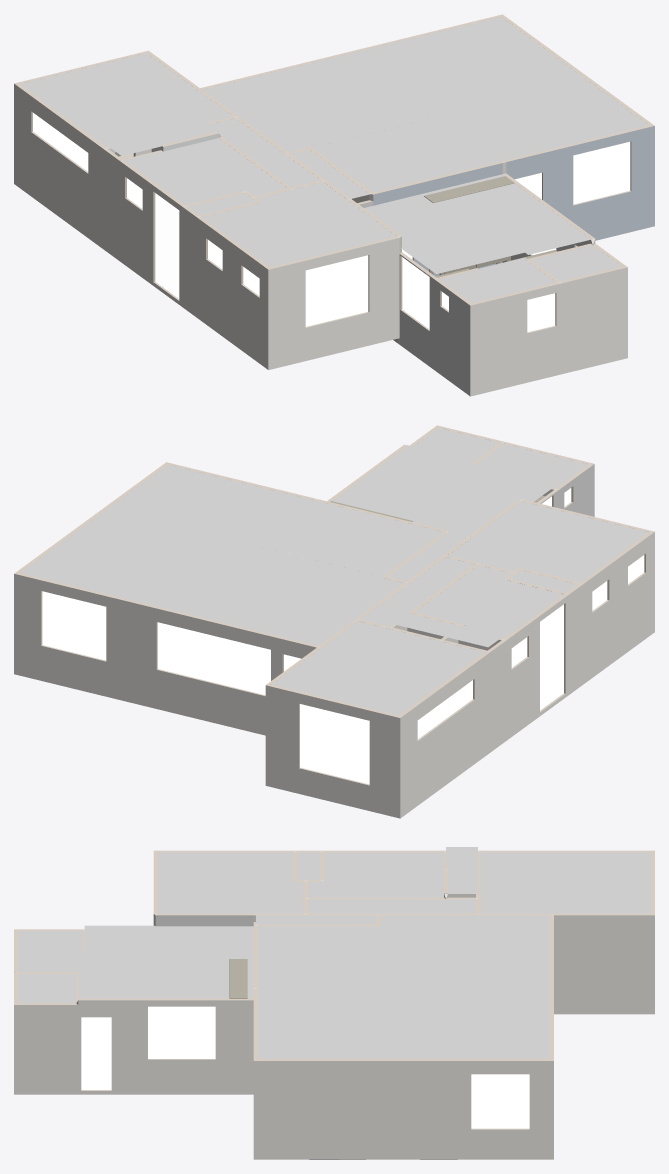
The model's file is sample_house.glb.
3 renders of one model, top to bottom at view 1: azimuth 30°, elevation 25°; view 2: azimuth 150°, elevation 25°; view 3: azimuth 270°, elevation 25°, orthographic.
Visible parts, largest first — view 1: Ceiling_Living_Room_1, Ceiling_Other_1, Wall_44, Ceiling_Kitchen, Wall_33, Wall_32, Ceiling_Dining_Room, Wall_41, Wall_7, Ceiling_Living_Room_2_1, Ceiling_Bedroom_1, Wall_43 (+27 smaller); view 2: Ceiling_Living_Room_1, Wall_10, Ceiling_Other_1, Wall_6, Ceiling_Kitchen, Wall_33, Ceiling_Dining_Room, Wall_7, Ceiling_Living_Room_2_1, Ceiling_Bedroom_1, Window_4, Ceiling_Bedroom_0 (+19 smaller); view 3: Wall_4, Ceiling_Living_Room_1, Ceiling_Other_1, Wall_12, Wall_42, Ceiling_Kitchen, Ceiling_Dining_Room, Ceiling_Living_Room_2_1, Ceiling_Bedroom_1, Wall_22, Ceiling_Bathroom_1, Ceiling_Bedroom_0 (+16 smaller).
Boxes of the visible parts, bbox=[...] form: Ceiling_Living_Room_1: bbox=[199, 17, 587, 153]; Ceiling_Other_1: bbox=[364, 174, 592, 273]; Wall_44: bbox=[268, 236, 399, 369]; Ceiling_Kitchen: bbox=[441, 80, 648, 161]; Wall_33: bbox=[14, 83, 105, 249]; Wall_32: bbox=[503, 125, 654, 240]; Ceiling_Dining_Room: bbox=[312, 116, 501, 193]; Wall_41: bbox=[470, 282, 560, 396]; Wall_7: bbox=[196, 217, 269, 369]; Ceiling_Living_Room_2_1: bbox=[202, 189, 367, 267]; Ceiling_Bedroom_1: bbox=[20, 53, 198, 120]; Wall_43: bbox=[560, 266, 627, 374]; Ceiling_Living_Room_1: bbox=[20, 509, 406, 647]; Wall_10: bbox=[14, 573, 318, 735]; Ceiling_Other_1: bbox=[332, 445, 556, 536]; Wall_6: bbox=[265, 684, 400, 818]; Ceiling_Kitchen: bbox=[107, 464, 314, 545]; Wall_33: bbox=[399, 652, 489, 818]; Ceiling_Dining_Room: bbox=[254, 500, 443, 576]; Wall_7: bbox=[581, 531, 654, 684]; Ceiling_Living_Room_2_1: bbox=[477, 508, 648, 583]; Ceiling_Bedroom_1: bbox=[271, 648, 448, 715]; Window_4: bbox=[157, 622, 270, 695]; Ceiling_Bedroom_0: bbox=[320, 620, 487, 678]; Wall_4: bbox=[253, 1059, 553, 1159]; Ceiling_Living_Room_1: bbox=[378, 914, 551, 1058]; Ceiling_Other_1: bbox=[78, 925, 253, 999]; Wall_12: bbox=[78, 998, 253, 1094]; Wall_42: bbox=[552, 913, 654, 1014]; Ceiling_Kitchen: bbox=[258, 988, 378, 1058]; Ceiling_Dining_Room: bbox=[257, 925, 378, 988]; Ceiling_Living_Room_2_1: bbox=[157, 852, 305, 899]; Ceiling_Bedroom_1: bbox=[551, 852, 650, 914]; Wall_22: bbox=[14, 1003, 78, 1094]; Ceiling_Bathroom_1: bbox=[324, 852, 445, 897]; Ceiling_Bedroom_0: bbox=[478, 852, 551, 914].
Bounding box in the file's own units: 12.2 × 2.97 × 15.72.
49 materials, 24 textured.
